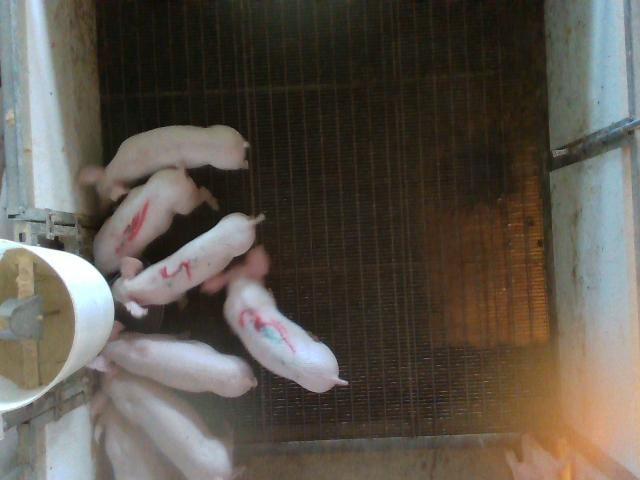pig-1: (95, 169, 217, 275)
pig-3: (201, 245, 348, 392)
pig-5: (112, 214, 264, 317)
